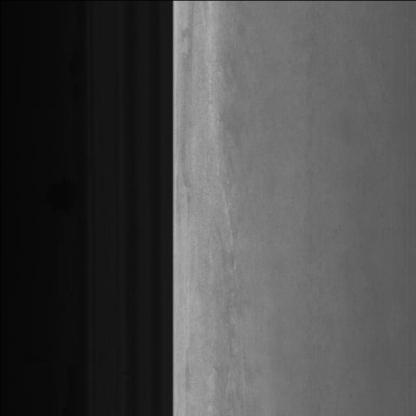silk_spot: (197, 202, 257, 374)
